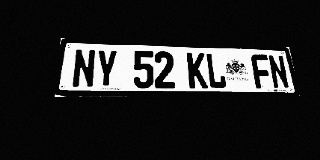2: (154, 51, 175, 88)
5: (134, 51, 154, 88)
F: (251, 54, 273, 88)
K: (187, 52, 208, 88)
L: (205, 53, 227, 88)
N: (72, 49, 96, 88), (267, 55, 290, 89)
Y: (95, 49, 118, 88)
